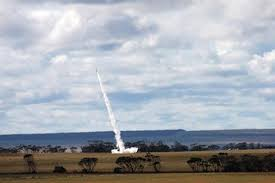ten_lua: (92, 68, 101, 77)
